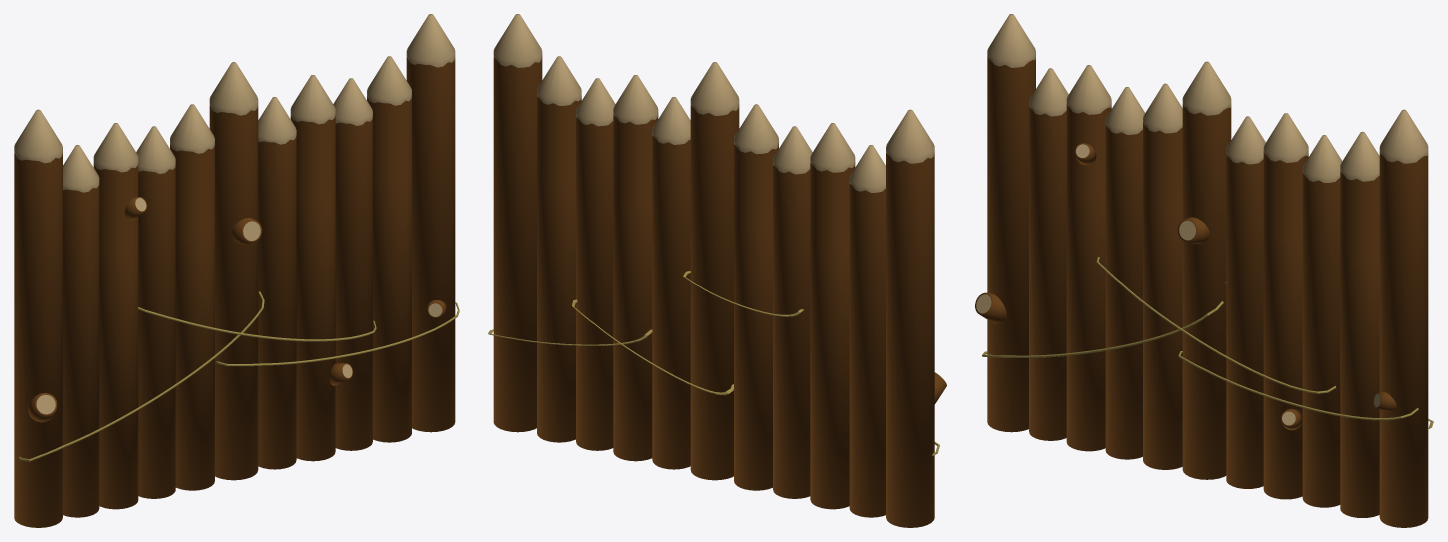
File: Palisade.glb
The picture shows the model from 3 angles, left to right: view 1: azimuth 30°, elevation 25°; view 2: azimuth 150°, elevation 25°; view 3: azimuth 330°, elevation 25°; orthographic projection.
Visible parts, largest first — view 1: Palisade; view 2: Palisade; view 3: Palisade.
Boxes of the visible parts, x1=… form: Palisade: x1=14, y1=14, x2=459, y2=527; Palisade: x1=488, y1=14, x2=946, y2=527; Palisade: x1=975, y1=14, x2=1433, y2=527.
Size of the model in its own units: 2.22 by 1.98 by 0.3411.
